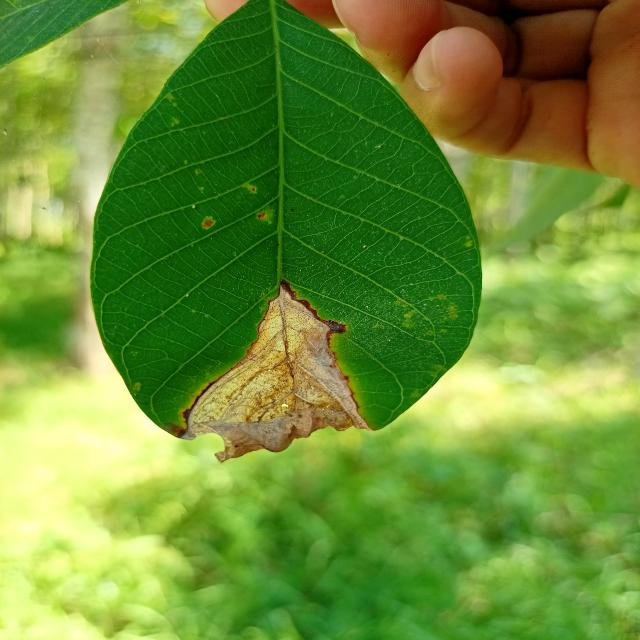Leaf-Blight: (182, 284, 373, 463)
